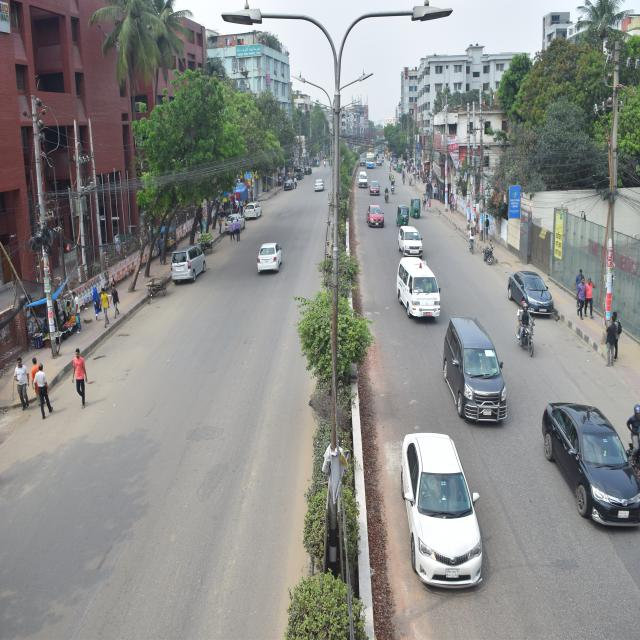car: (541, 398, 631, 535), (512, 268, 560, 322), (252, 247, 292, 301), (361, 205, 389, 244), (242, 186, 260, 226), (309, 170, 327, 200), (370, 179, 385, 201), (359, 173, 369, 194), (284, 177, 288, 197)
microbus: (441, 298, 514, 428), (387, 250, 438, 332), (173, 242, 205, 293)
motorbike: (511, 294, 543, 356), (475, 239, 496, 266), (385, 168, 396, 185), (383, 181, 390, 206), (389, 182, 399, 198)
